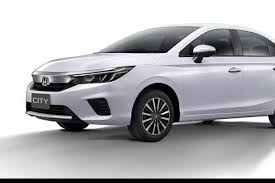Honda: (26, 19, 274, 143)
